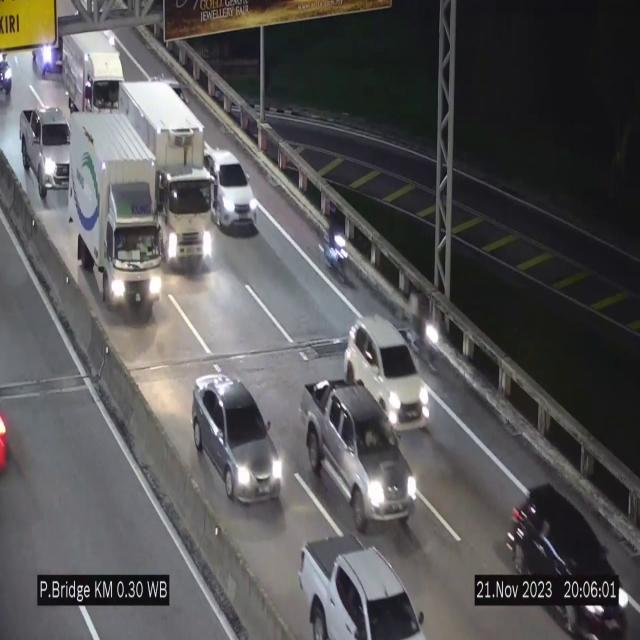Car: (505, 481, 629, 631), (192, 374, 286, 502), (345, 316, 431, 424), (19, 109, 73, 190), (206, 149, 258, 230), (27, 20, 68, 84), (0, 39, 18, 93)
Motorcycle: (321, 212, 351, 296), (416, 305, 446, 380)
Truck: (288, 508, 438, 640), (299, 380, 419, 534), (68, 108, 158, 306), (119, 82, 208, 268), (59, 29, 124, 118)
